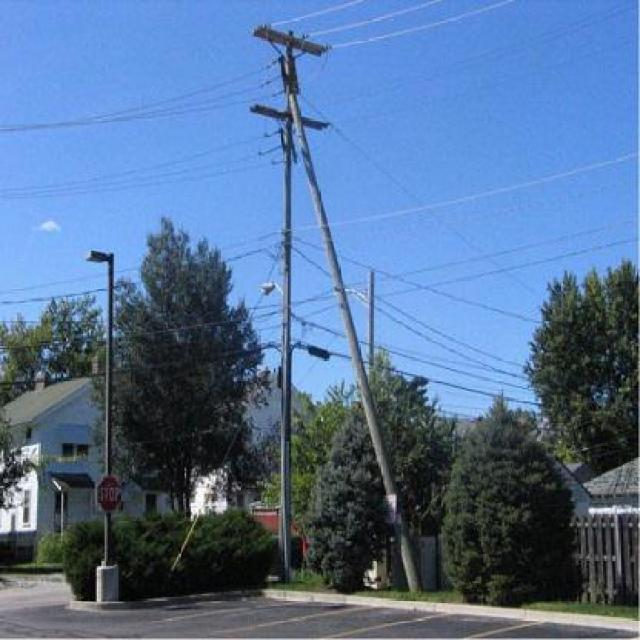pole: (251, 12, 349, 585)
